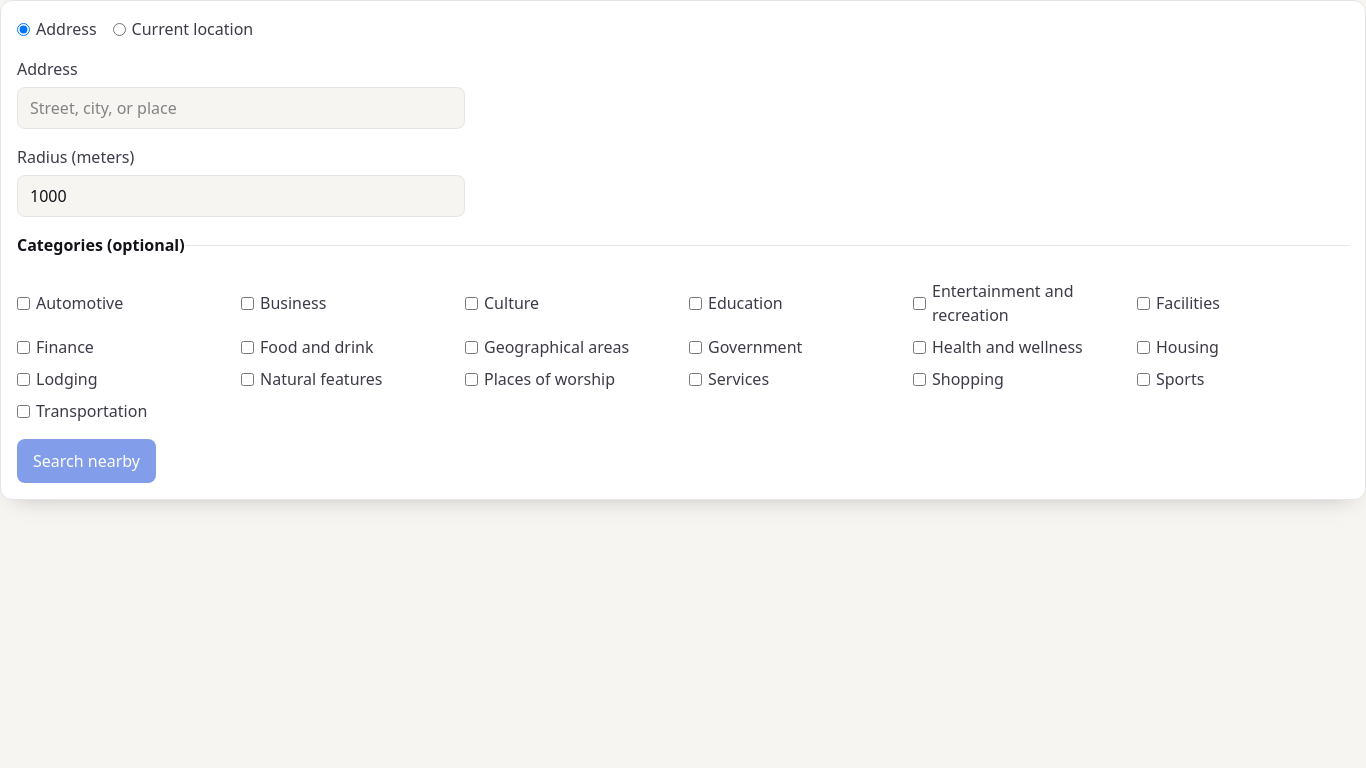
SearchForm location-mode address overlay › restores leftover address after geolocation denial, not Your Location
The image size is (1366, 768).
Step 1. Type "12 Main St" into the field labelled "Address" → (241, 108), box [17,87,465,129]
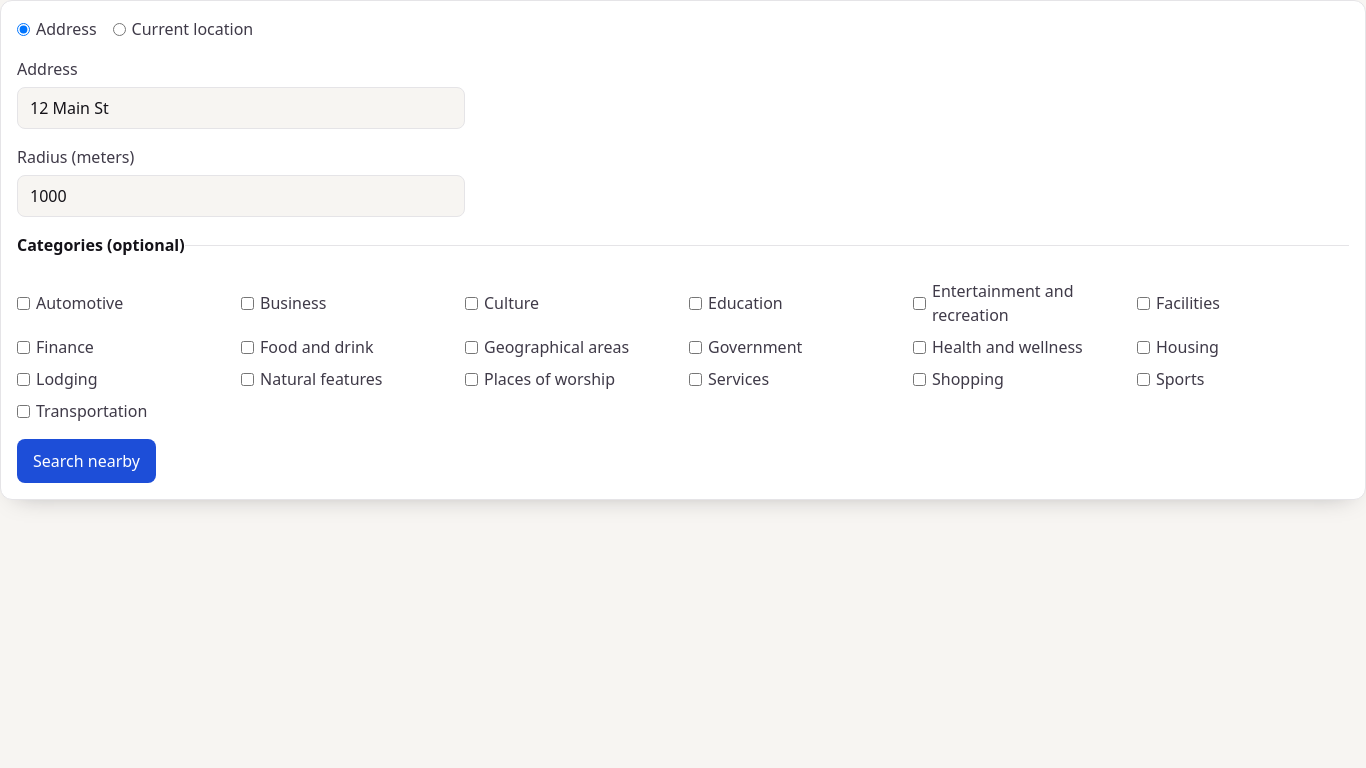
Step 2. Click the radio button labelled "Current location" → (119, 29), box [112,22,126,36]
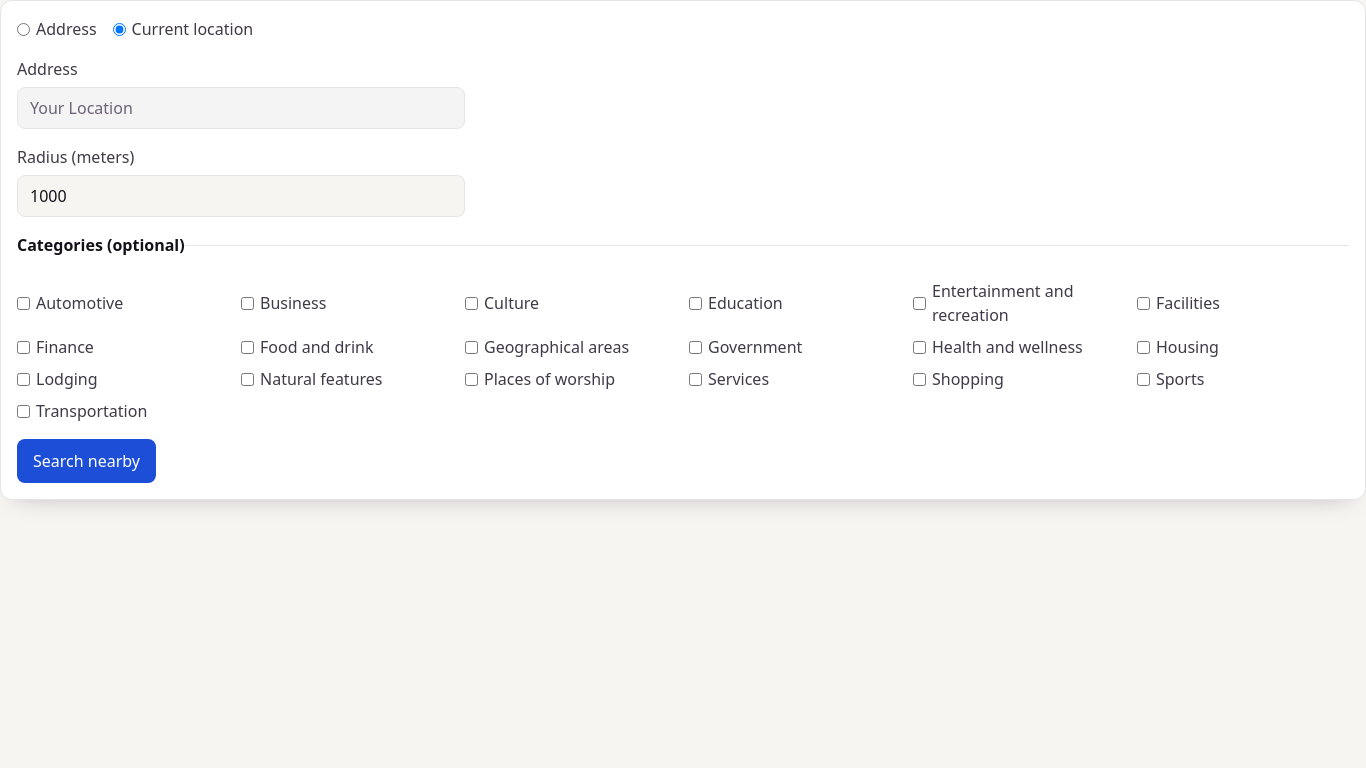
Step 3. Click the button "Search nearby" → (86, 461), box [17,439,156,483]
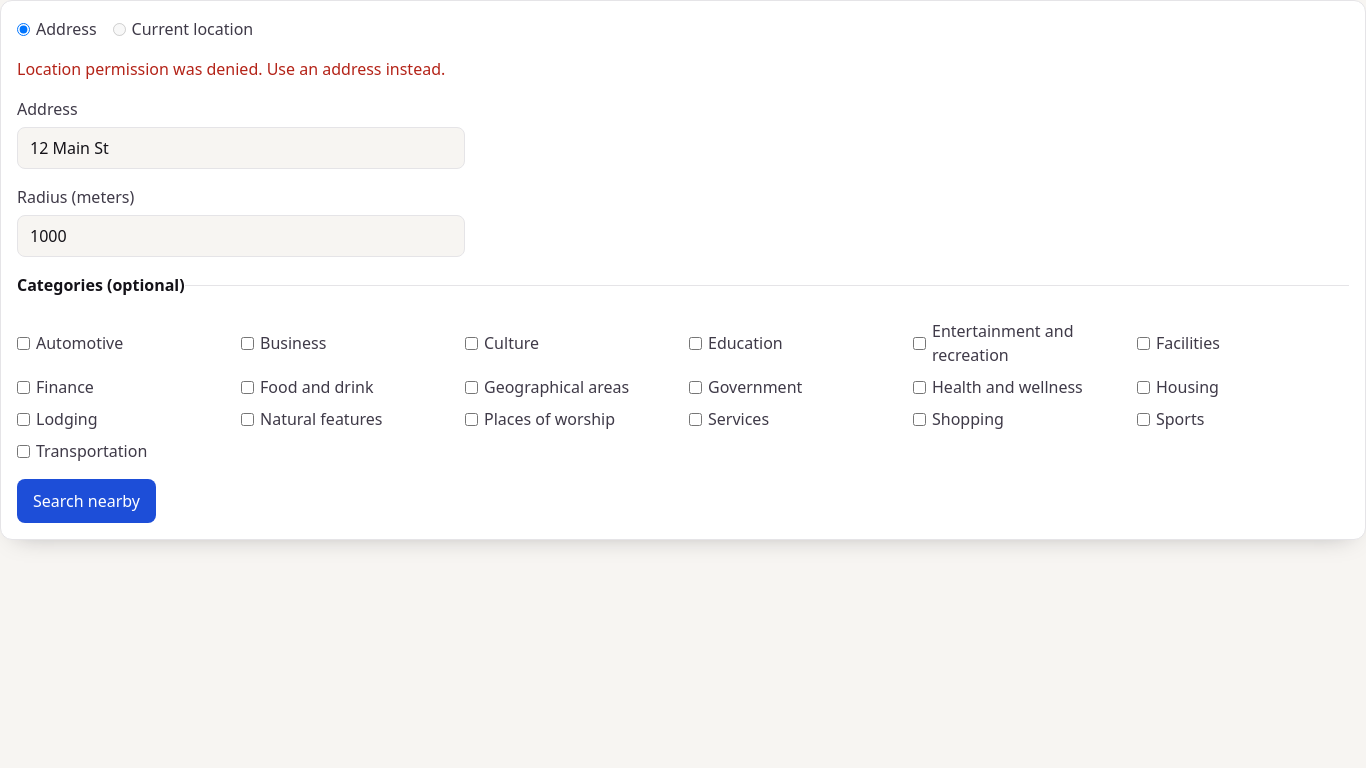
expect the field labelled "Address" is enabled: met, box [17,127,465,169]
expect the radio button labelled "Current location" is disabled: met, box [112,22,126,36]
